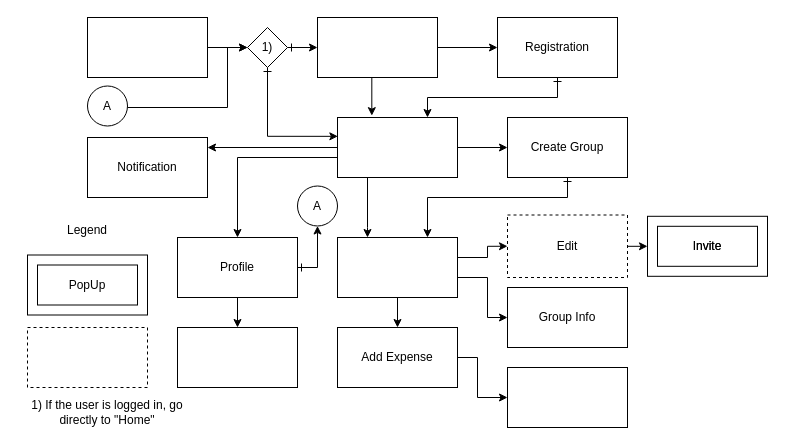
This 785x445 diagram has some shape labels left out. Each missing label, with the box of its shape:
Admin Only: (26, 326, 148, 388)
Attachment: (506, 366, 628, 428)
Group: (336, 236, 458, 298)
Home: (336, 116, 458, 178)
Invoices: (176, 326, 298, 388)
Login: (316, 16, 438, 78)
Splash: (86, 16, 208, 78)
